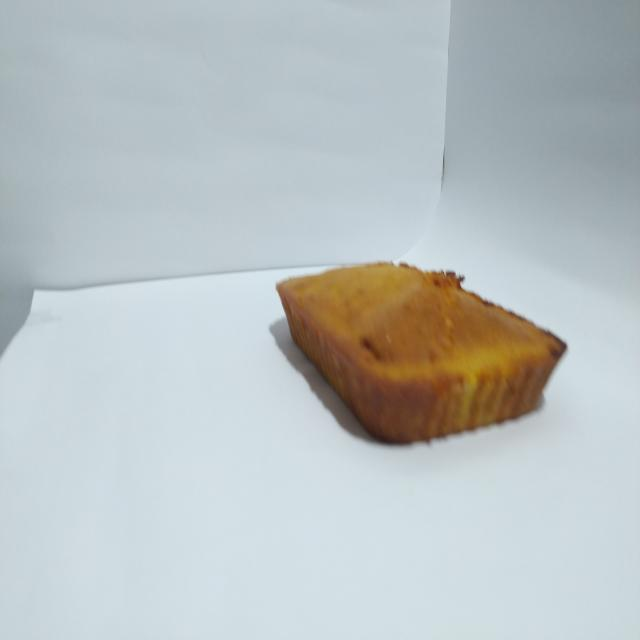Sopa: (259, 237, 578, 456)
